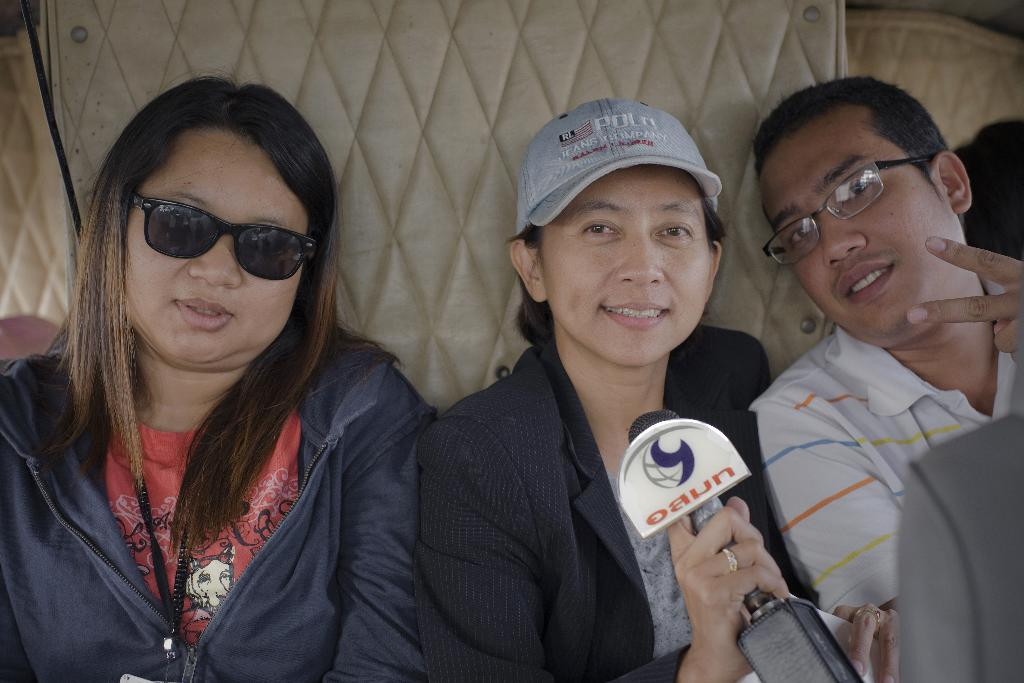Hat: (512, 95, 718, 233)
